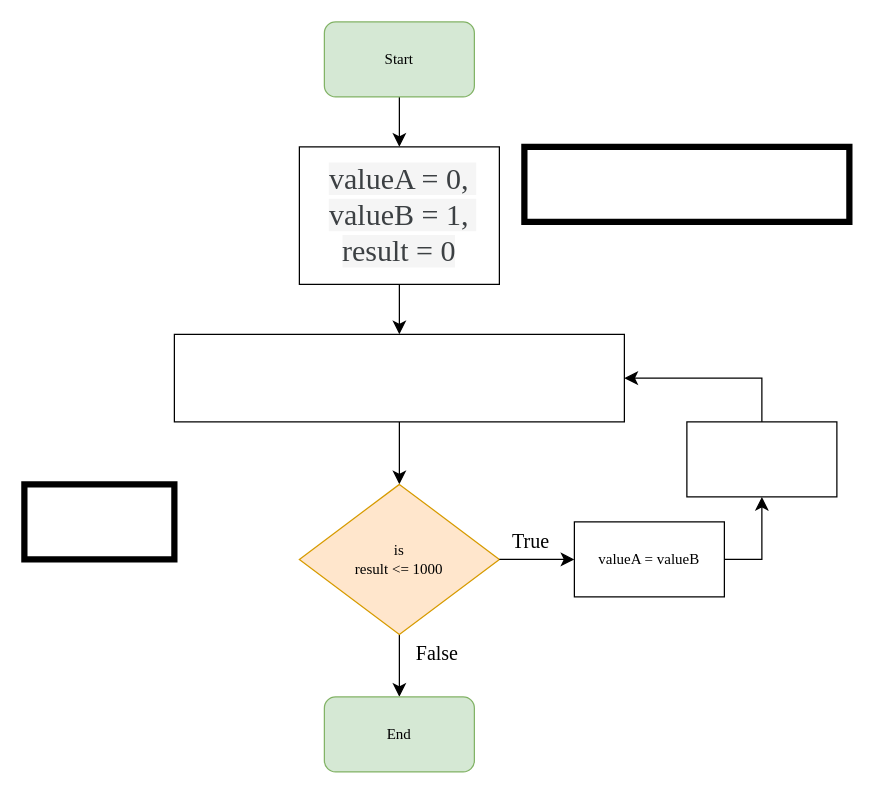
This 874x794 diagram has some shape labels left out. Each missing label, with the centre of its shape:
"Exercise 1.15" goes at point 686,183.
"result = valueA +valueB" goes at point 398,377.
"valueB = result" goes at point 761,459.
